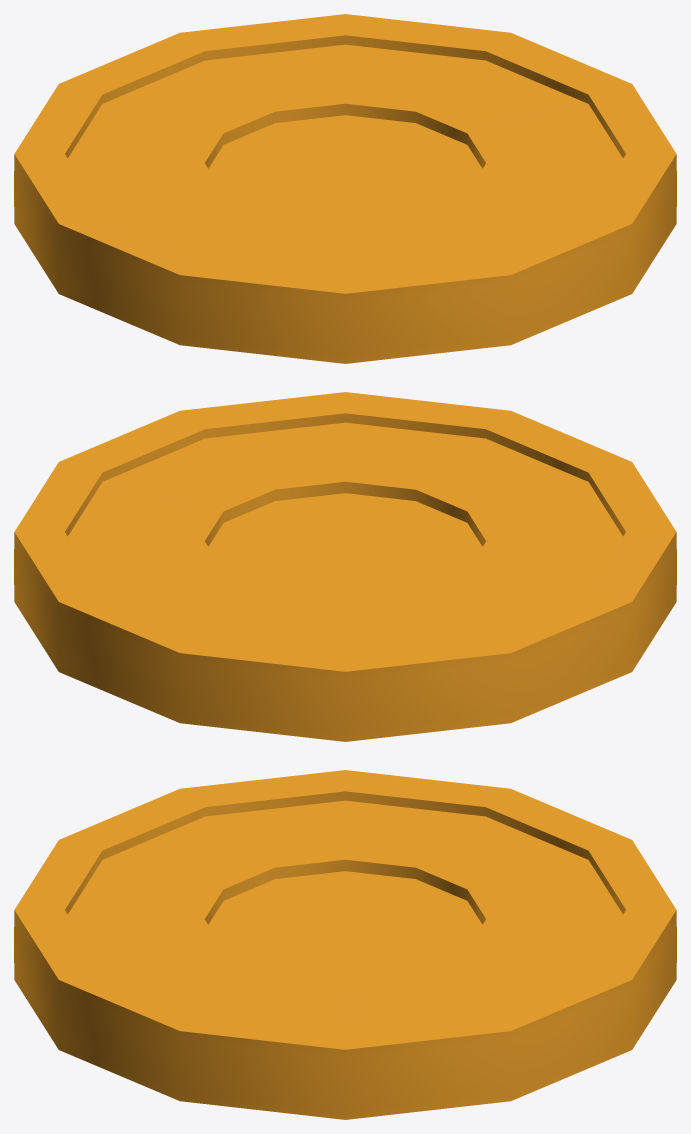
The model's file is Coin_2.fbx.
3 renders of one model, top to bottom at view 1: azimuth 30°, elevation 25°; view 2: azimuth 150°, elevation 25°; view 3: azimuth 270°, elevation 25°, orthographic.
Visible parts, largest first — view 1: pDisc4; view 2: pDisc4; view 3: pDisc4.
Part boxes in pixels (x1,y1,x2,y2): pDisc4: (14,14,676,363); pDisc4: (14,392,676,741); pDisc4: (14,770,676,1119).
Bounding box in the file's own units: 16.35 × 1.91 × 16.35.
